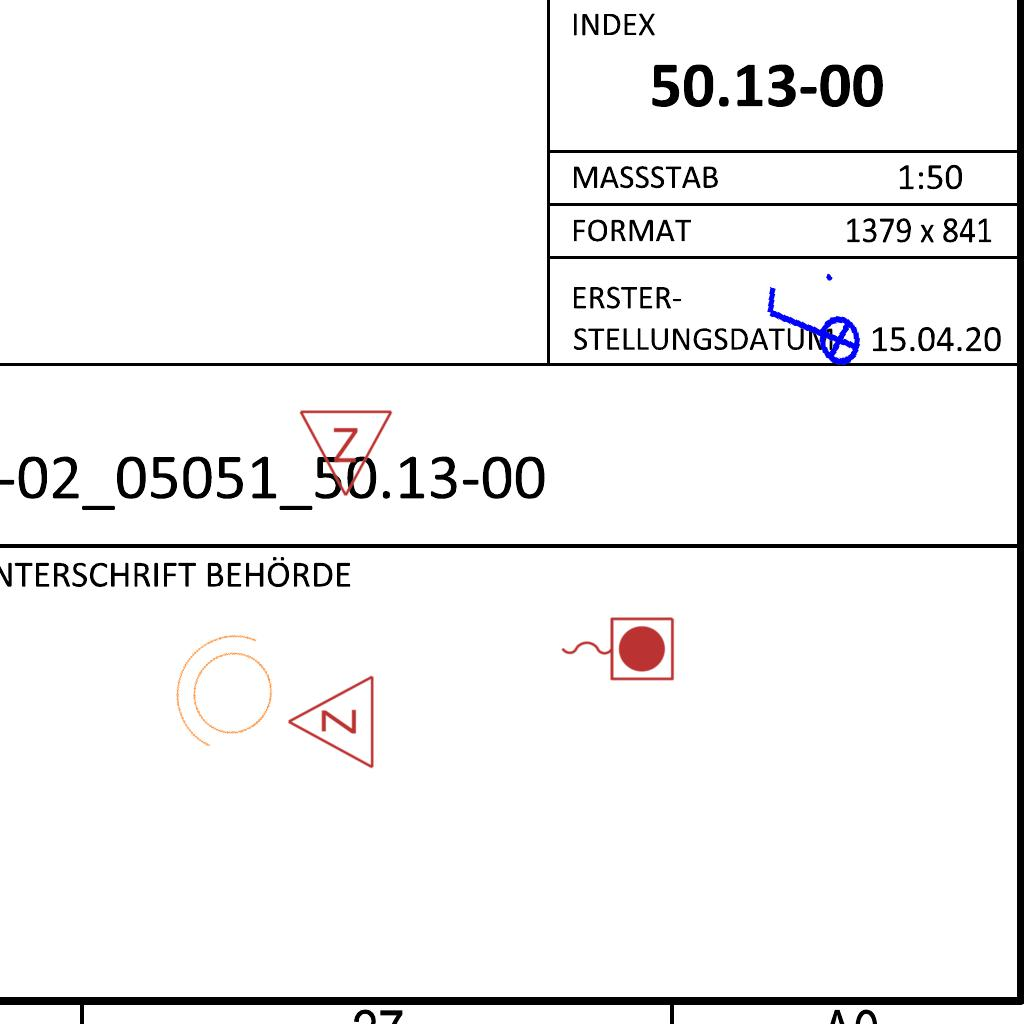Ausschalter_beleuchtet: (754, 264, 868, 392)
Scheinwerfer_fuer_Alarmbeleuchtung: (148, 610, 306, 778)
Zimmersignalleuchte: (281, 674, 381, 772), (298, 403, 396, 503)
Zugtaster: (556, 612, 678, 684)
